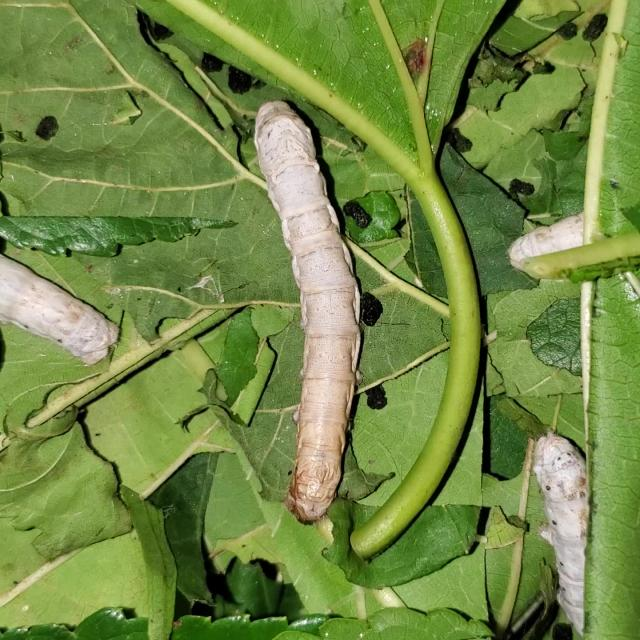Grasserie: (238, 79, 386, 528)
